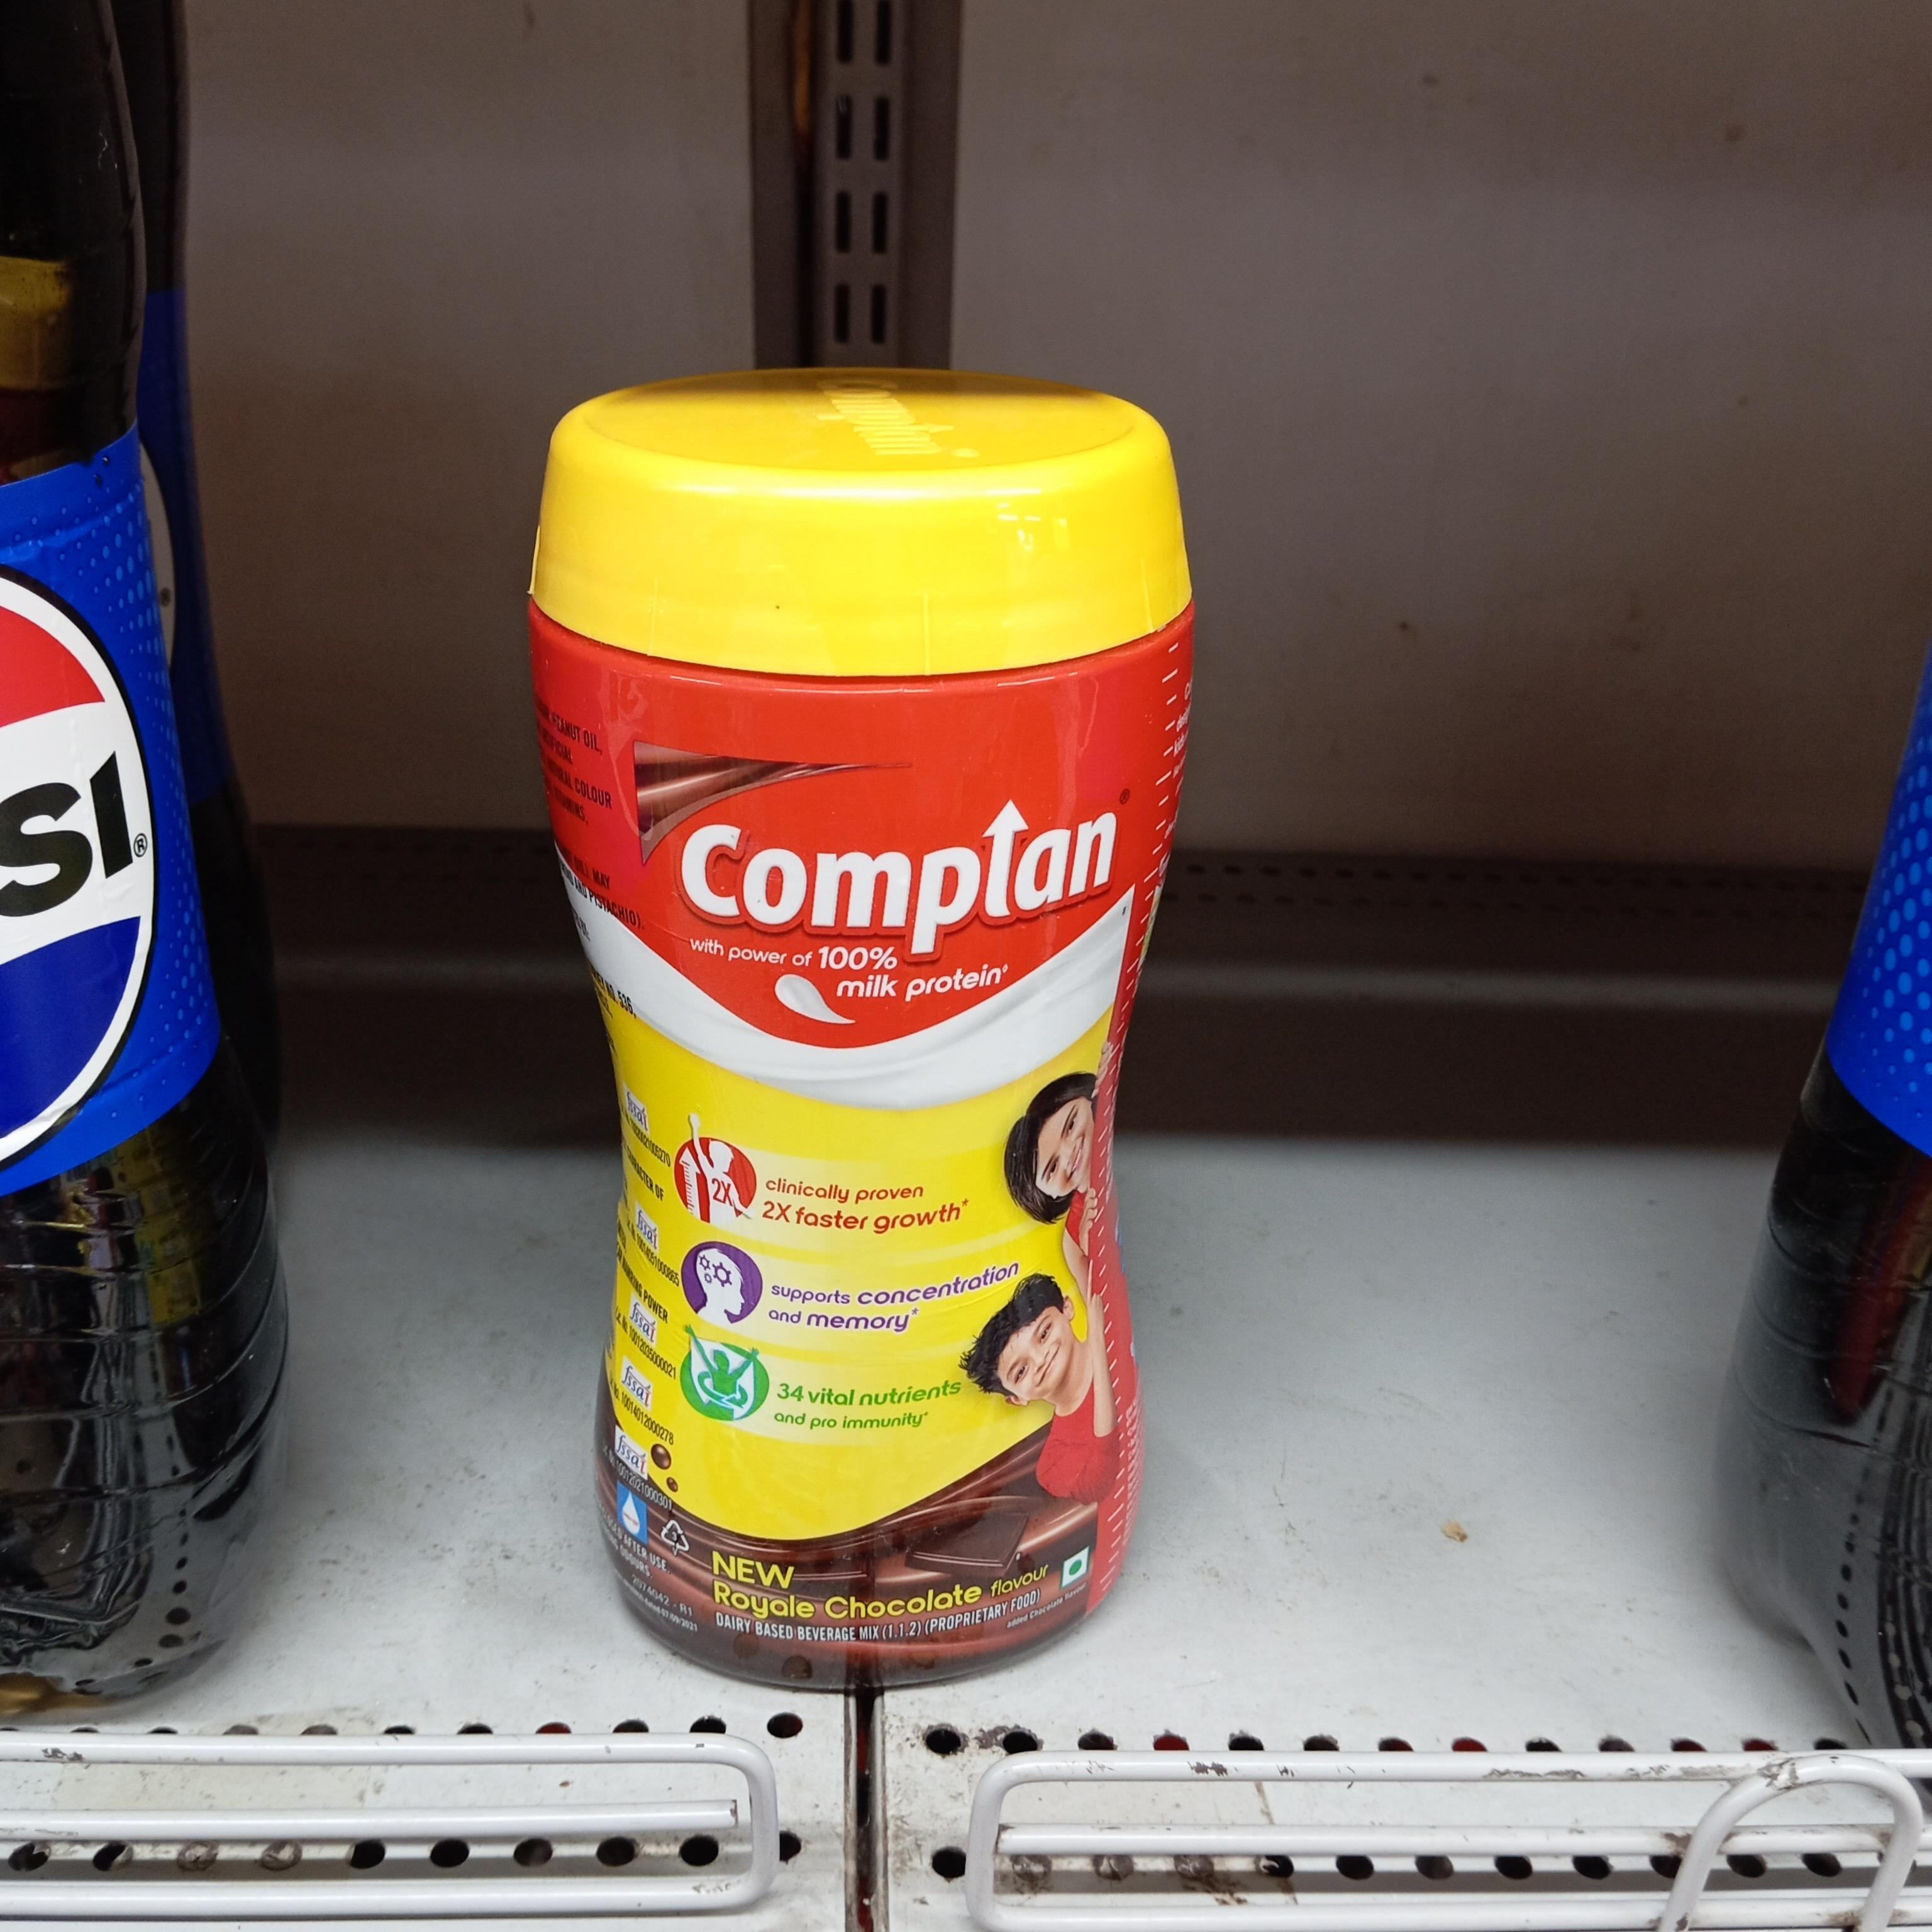COMPLAN_CHOCOLATE_500_GMS_JAR: (545, 361, 1138, 1697)
